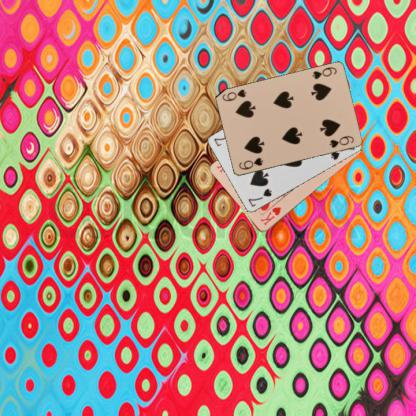6s: (236, 155, 264, 171), (310, 65, 337, 80)
7s: (245, 186, 272, 209)
Kh: (258, 205, 282, 227)
